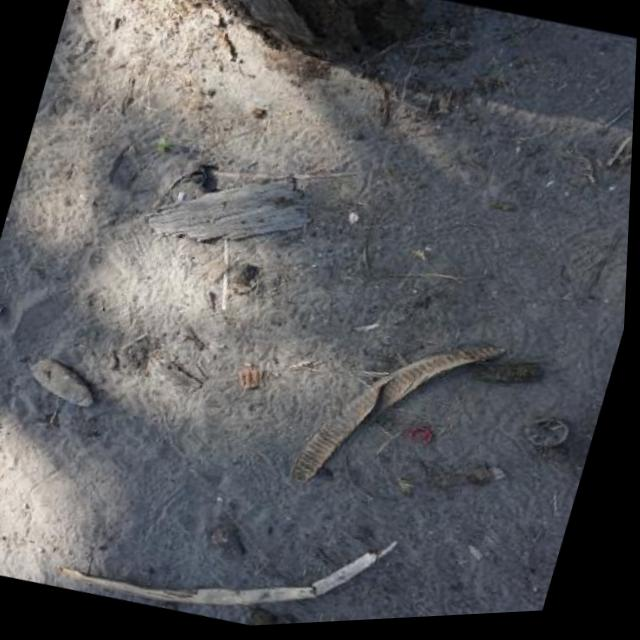plastic: (184, 158, 226, 195), (408, 422, 435, 445)
